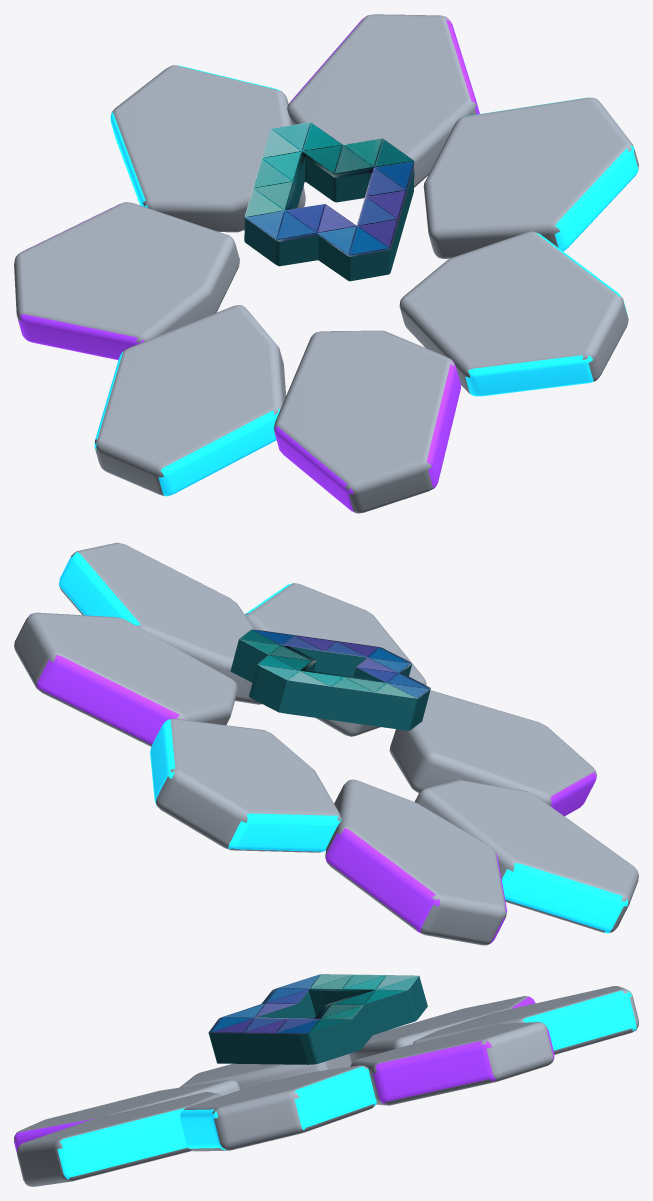
Rendered from ascore-symbol-aperture.glb.
3 views of the same model, one above another, from view 1: azimuth 30°, elevation 25°; view 2: azimuth 150°, elevation 25°; view 3: azimuth 270°, elevation 25° (orthographic). The views are drawn at different scales.
Parts seen in each view (by area): view 1: Aperture blade 07, Aperture blade 06, Aperture blade 05, Aperture blade 04, Aperture blade 01, Aperture blade 03, ASCORE official symbol • extruded, Aperture blade 02; view 2: Aperture blade 03, Aperture blade 04, Aperture blade 02, Aperture blade 05, Aperture blade 06, ASCORE official symbol • extruded, Aperture blade 01, Aperture blade 07; view 3: ASCORE official symbol • extruded, Aperture blade 01, Aperture blade 02, Aperture blade 07, Aperture blade 03, Aperture blade 06, Aperture blade 04, Aperture blade 05.
Part boxes in pixels (x1=…): Aperture blade 07: x1=399, y1=231, x2=628, y2=396; Aperture blade 06: x1=274, y1=330, x2=460, y2=513; Aperture blade 05: x1=94, y1=305, x2=286, y2=496; Aperture blade 04: x1=14, y1=202, x2=239, y2=360; Aperture blade 01: x1=423, y1=97, x2=638, y2=258; Aperture blade 03: x1=110, y1=65, x2=305, y2=232; ASCORE official symbol • extruded: x1=244, y1=122, x2=414, y2=281; Aperture blade 02: x1=287, y1=14, x2=479, y2=187; Aperture blade 03: x1=150, y1=718, x2=341, y2=852; Aperture blade 04: x1=325, y1=779, x2=506, y2=945; Aperture blade 02: x1=14, y1=612, x2=237, y2=746; Aperture blade 05: x1=414, y1=779, x2=638, y2=933; Aperture blade 06: x1=389, y1=690, x2=596, y2=816; ASCORE official symbol • extruded: x1=230, y1=629, x2=430, y2=730; Aperture blade 01: x1=59, y1=542, x2=262, y2=704; Aperture blade 07: x1=245, y1=583, x2=426, y2=736; ASCORE official symbol • extruded: x1=208, y1=974, x2=427, y2=1064; Aperture blade 01: x1=180, y1=1065, x2=376, y2=1151; Aperture blade 02: x1=350, y1=1022, x2=554, y2=1105; Aperture blade 07: x1=17, y1=1092, x2=221, y2=1186; Aperture blade 03: x1=413, y1=986, x2=638, y2=1054; Aperture blade 06: x1=14, y1=1080, x2=240, y2=1152; Aperture blade 04: x1=349, y1=996, x2=535, y2=1063; Aperture blade 05: x1=180, y1=1054, x2=351, y2=1089.
Bounding box in the file's own units: 4.07 × 2.06 × 4.15.
Materials: 5 (1 with a texture image).
